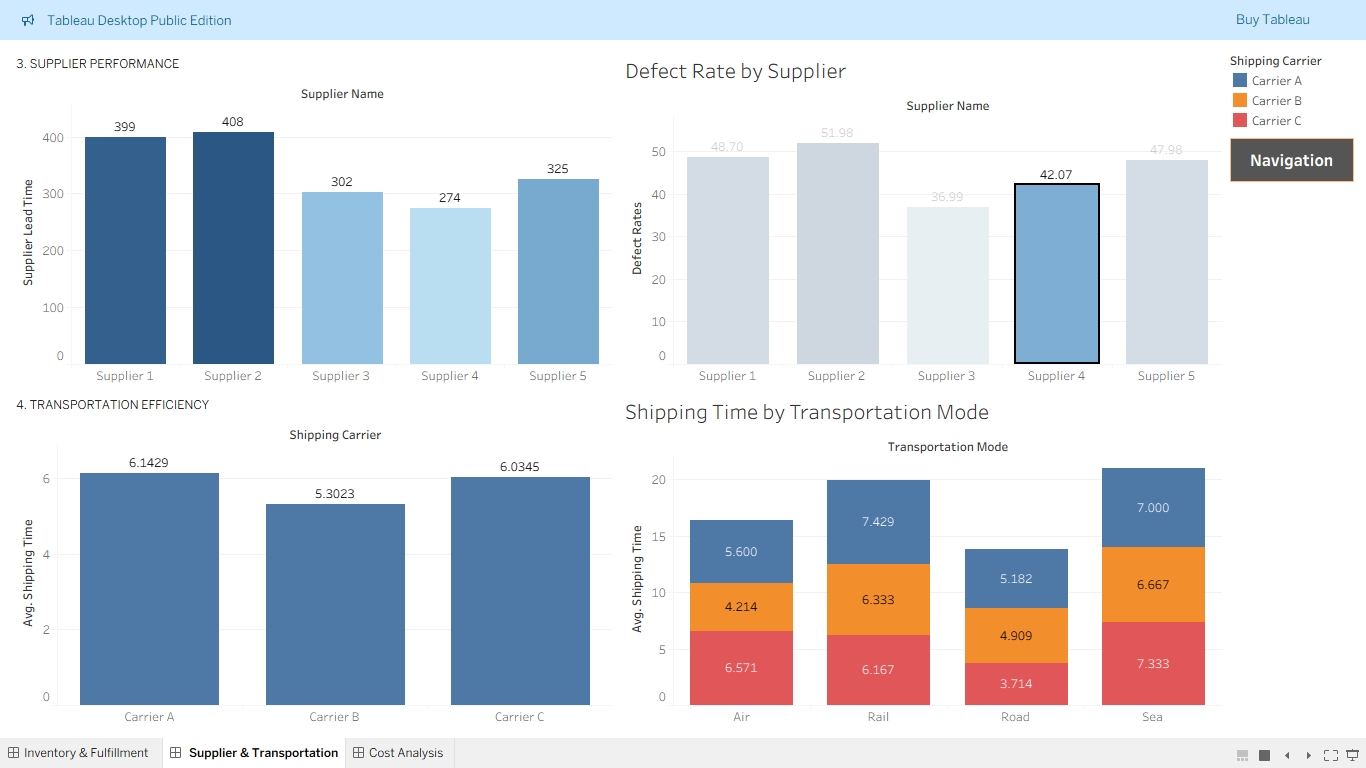

The page's visual inventory and layout, read from the dashboard file:
{"tool":"tableau","page":{"name":" Supplier & Transportation","canvas":[1000,1000],"units":"permille","ordinal":0},"visuals":[{"type":"worksheet","title":"Average Supplier Lead Time","mark":"Automatic","rows":["SupplierLeadTime"],"cols":["SupplierName"],"box":[6.9,14.5,435.9,485.5]},{"type":"worksheet","title":"Defect Rate by Supplier","mark":"Automatic","rows":["DefectRates"],"cols":["SupplierName"],"box":[442.8,14.5,435.9,485.5]},{"type":"legend","title":"Shipping Time by Transportation Mode","param":"[federated.07vt0mj0po1mqy1gqi3b60ctnczp].[none:ShippingCarrier:nk]","box":[878.8,14.5,114.3,155.8]},{"type":"dashboard-object","box":[878.8,170.3,114.3,94.2]},{"type":"worksheet","title":"Average Shipping Time by Carrier","mark":"Automatic","rows":["ShippingTime"],"cols":["ShippingCarrier"],"box":[6.9,500,435.9,485.5]},{"type":"worksheet","title":"Shipping Time by Transportation Mode","mark":"Automatic","rows":["ShippingTime"],"cols":["TransportationMode"],"box":[442.8,500,435.9,485.5]}]}

Visuals, with their boxes on the dashboard's canvas, which has no fixed pixel size, in thousandths of its width and height (x1, y1, x2, y2). These are canvas units, not pixel positions in the 1366x768 screenshot, which may show the page scaled, cropped or inside an application window:
"Average Supplier Lead Time" worksheet: [left=7, top=14, right=443, bottom=500]
"Defect Rate by Supplier" worksheet: [left=443, top=14, right=879, bottom=500]
"Shipping Time by Transportation Mode" legend: [left=879, top=14, right=993, bottom=170]
dashboard-object: [left=879, top=170, right=993, bottom=264]
"Average Shipping Time by Carrier" worksheet: [left=7, top=500, right=443, bottom=986]
"Shipping Time by Transportation Mode" worksheet: [left=443, top=500, right=879, bottom=986]
